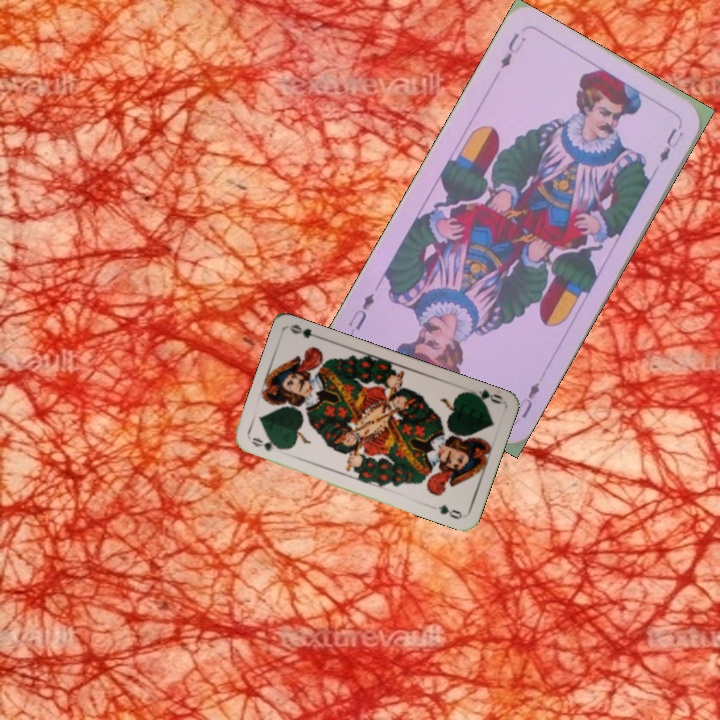EU: (510, 378, 543, 421), (496, 28, 528, 71)
GO: (464, 386, 505, 407), (247, 433, 287, 454)
